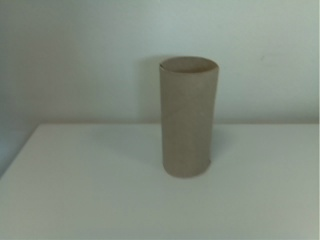rollo papel: (154, 54, 221, 182)
